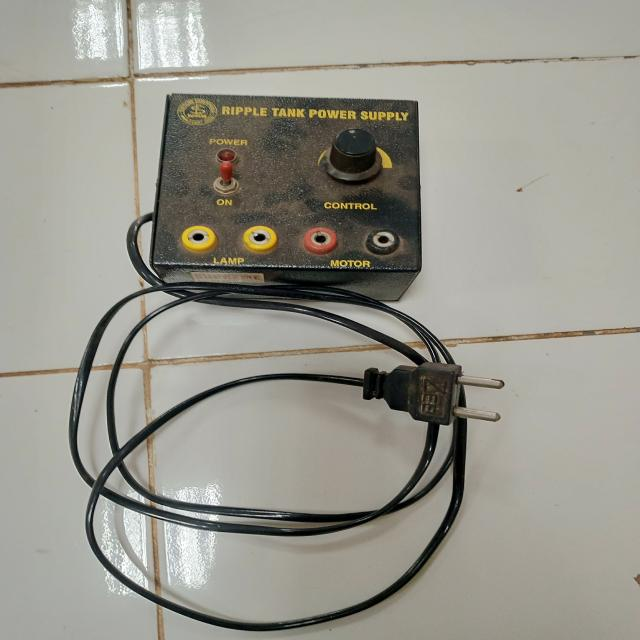Ripple Tank Power Supply: (117, 80, 459, 314)
